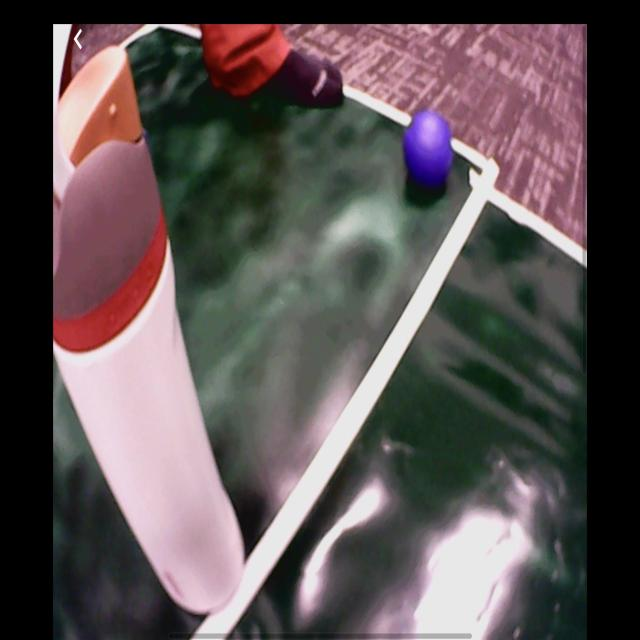ball: (403, 113, 455, 186)
